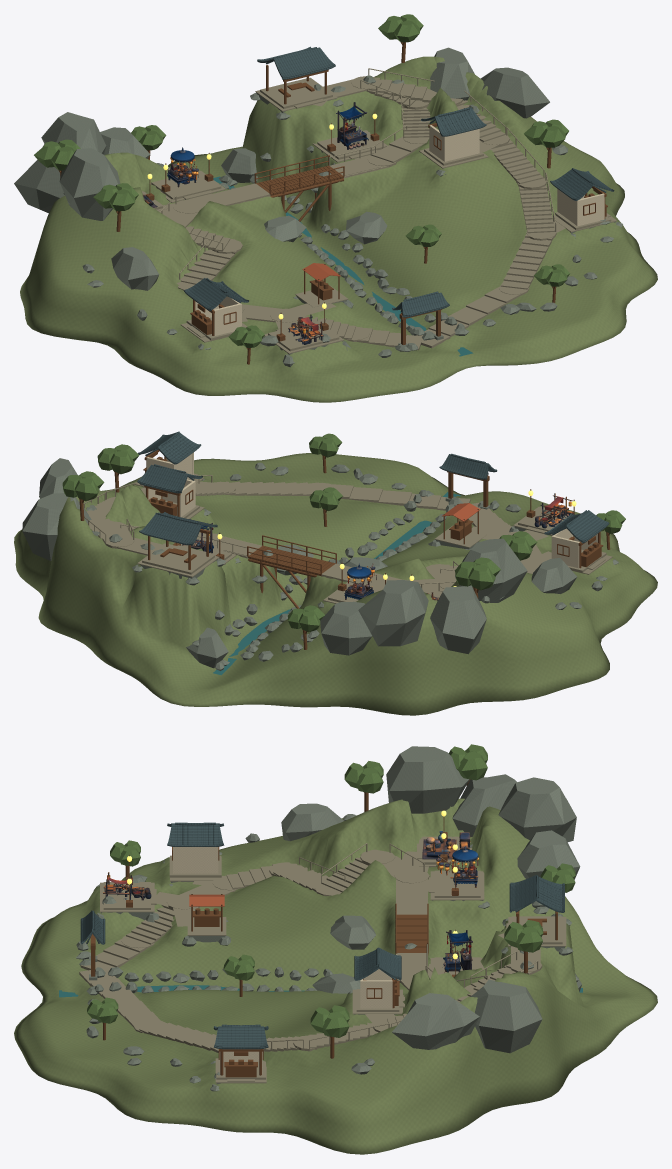
Rendered from night.glb.
3 renders of one model, top to bottom at view 1: azimuth 30°, elevation 25°; view 2: azimuth 150°, elevation 25°; view 3: azimuth 270°, elevation 25°, orthographic. The views are drawn at different scales.
Parts seen in each view (by area): view 1: Environment_市集 · 苔土, Environment_市集 · 米灰石板, Environment_市集 · 溪岸山石, Environment_市集 · 灰绿树叶, Environment_市集 · 旧榆木, Environment_市集 · 青灰瓦, Environment_市集 · 暖灰粉墙, Environment_市集 · 青灰瓦.001, tripo_node_ce6a87ce-73b1-4047-bcdd-ef2d992da65c.003, tripo_node_ce6a87ce-73b1-4047-bcdd-ef2d992da65c.002, Environment_市集 · 溪水青, tripo_node_ce6a87ce-73b1-4047-bcdd-ef2d992da65c; view 2: Environment_市集 · 苔土, Environment_市集 · 溪岸山石, Environment_市集 · 米灰石板, Environment_市集 · 灰绿树叶, Environment_市集 · 旧榆木, Environment_市集 · 青灰瓦, Environment_市集 · 暖灰粉墙, Environment_市集 · 青灰瓦.001, Environment_市集 · 溪水青, tripo_node_ce6a87ce-73b1-4047-bcdd-ef2d992da65c.002, tripo_node_ce6a87ce-73b1-4047-bcdd-ef2d992da65c; view 3: Environment_市集 · 苔土, Environment_市集 · 溪岸山石, Environment_市集 · 米灰石板, Environment_市集 · 灰绿树叶, Environment_市集 · 青灰瓦, Environment_市集 · 旧榆木, Environment_市集 · 暖灰粉墙, Environment_市集 · 青灰瓦.001, tripo_node_ce6a87ce-73b1-4047-bcdd-ef2d992da65c.002, tripo_node_ce6a87ce-73b1-4047-bcdd-ef2d992da65c.003, tripo_node_ce6a87ce-73b1-4047-bcdd-ef2d992da65c.001, tripo_node_ce6a87ce-73b1-4047-bcdd-ef2d992da65c.
Boxes of the visible parts, x1,y1,x2,y2 form: Environment_市集 · 苔土: (20,56,657,402); Environment_市集 · 米灰石板: (141,68,616,353); Environment_市集 · 溪岸山石: (14,47,622,367); Environment_市集 · 灰绿树叶: (34,14,569,347); Environment_市集 · 旧榆木: (58,42,607,364); Environment_市集 · 青灰瓦: (185,47,613,315); Environment_市集 · 暖灰粉墙: (195,125,604,335); Environment_市集 · 青灰瓦.001: (184,46,614,317); tripo_node_ce6a87ce-73b1-4047-bcdd-ef2d992da65c.003: (336,102,368,149); tripo_node_ce6a87ce-73b1-4047-bcdd-ef2d992da65c.002: (167,147,198,187); Environment_市集 · 溪水青: (213,176,473,356); tripo_node_ce6a87ce-73b1-4047-bcdd-ef2d992da65c: (288,314,323,344); Environment_市集 · 苔土: (14,453,657,715); Environment_市集 · 溪岸山石: (22,458,618,670); Environment_市集 · 米灰石板: (83,473,612,603); Environment_市集 · 灰绿树叶: (62,433,625,632); Environment_市集 · 旧榆木: (79,449,610,649); Environment_市集 · 青灰瓦: (138,431,608,544); Environment_市集 · 暖灰粉墙: (145,452,597,568); Environment_市集 · 青灰瓦.001: (137,431,609,545); Environment_市集 · 溪水青: (213,492,460,675); tripo_node_ce6a87ce-73b1-4047-bcdd-ef2d992da65c.002: (344,563,376,599); tripo_node_ce6a87ce-73b1-4047-bcdd-ef2d992da65c: (534,493,573,528); Environment_市集 · 苔土: (14,798,657,1154); Environment_市集 · 溪岸山石: (76,746,581,1091); Environment_市集 · 米灰石板: (79,836,566,1083); Environment_市集 · 灰绿树叶: (87,744,575,1037); Environment_市集 · 青灰瓦: (81,823,563,1047); Environment_市集 · 旧榆木: (90,779,557,1077); Environment_市集 · 暖灰粉墙: (173,847,392,1074); Environment_市集 · 青灰瓦.001: (80,822,564,1049); tripo_node_ce6a87ce-73b1-4047-bcdd-ef2d992da65c.002: (436,846,478,887); tripo_node_ce6a87ce-73b1-4047-bcdd-ef2d992da65c.003: (442,930,472,972); tripo_node_ce6a87ce-73b1-4047-bcdd-ef2d992da65c.001: (422,831,470,859); tripo_node_ce6a87ce-73b1-4047-bcdd-ef2d992da65c: (103,872,151,900).
Size of the model in its own units: 63.87 by 15.49 by 56.54.
14 materials, 14 textured.
